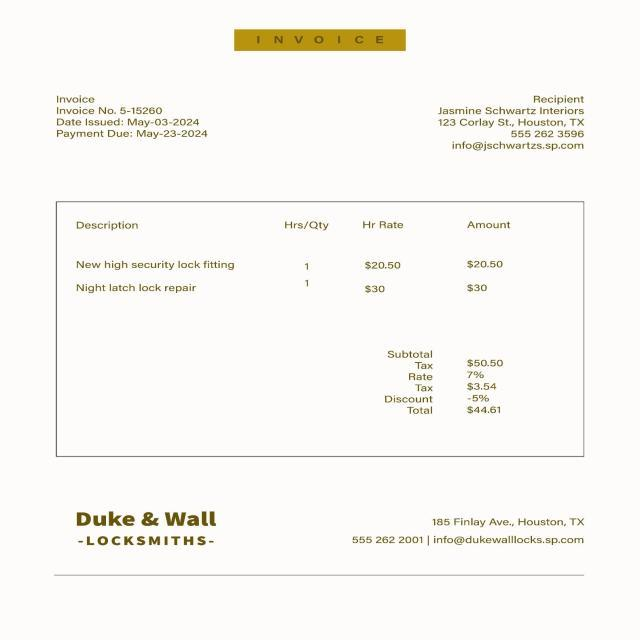ROI: (59, 206, 577, 322), (340, 490, 602, 556), (412, 83, 606, 161), (377, 339, 528, 426), (52, 495, 245, 559), (51, 90, 220, 152), (228, 24, 410, 61)
